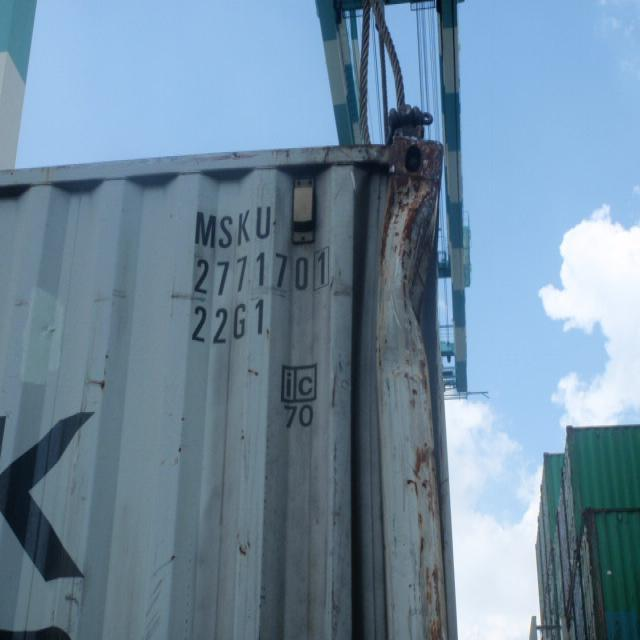dent: (373, 127, 452, 482)
